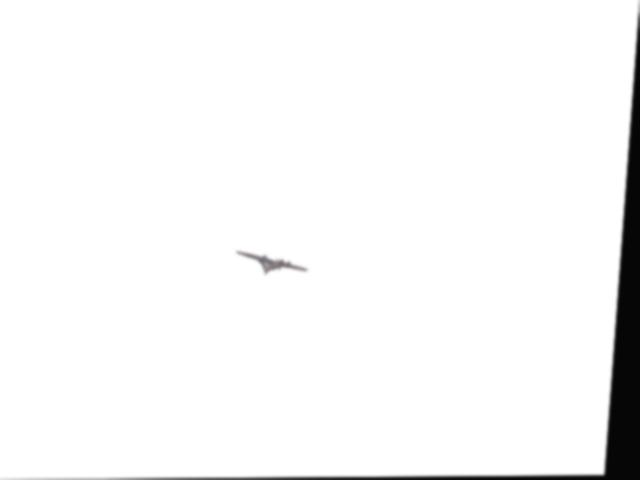iha: (236, 244, 316, 281)
